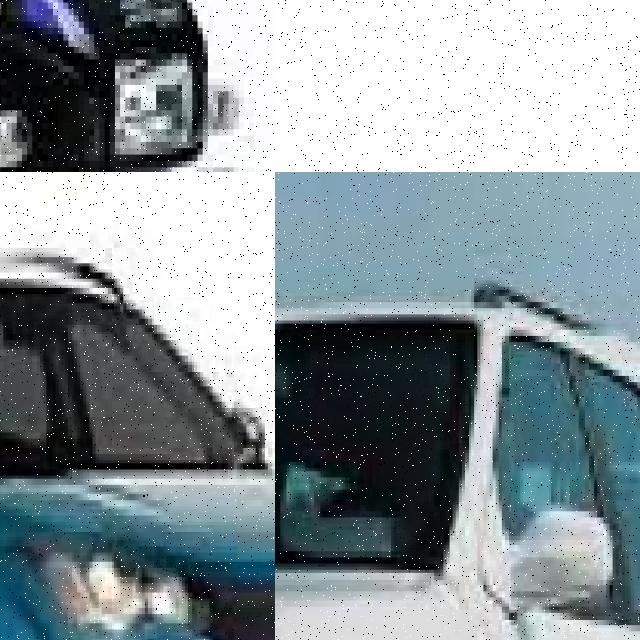bike: (275, 0, 640, 172), (0, 0, 275, 172)
car: (275, 172, 640, 640), (0, 172, 275, 640)
